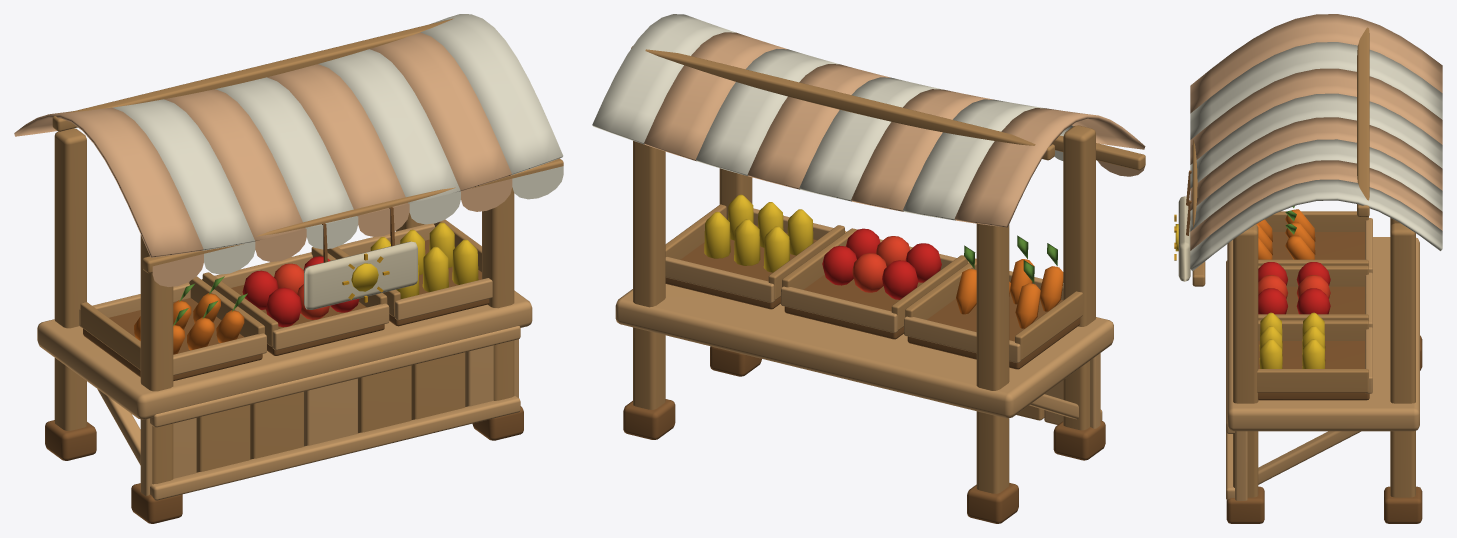
The model's file is market-stall.glb.
The picture shows the model from 3 angles, left to right: view 1: azimuth 30°, elevation 25°; view 2: azimuth 150°, elevation 25°; view 3: azimuth 270°, elevation 25°; orthographic projection. The views are drawn at different scales.
Parts seen in each view (by area): view 1: market-stall_awning, market-stall_frame, market-stall_produce, market-stall_sign; view 2: market-stall_frame, market-stall_awning, market-stall_produce; view 3: market-stall_awning, market-stall_frame, market-stall_produce, market-stall_sign.
Boxes of the visible parts, x1=… form: market-stall_awning: x1=14, y1=14, x2=563, y2=286; market-stall_frame: x1=37, y1=18, x2=563, y2=523; market-stall_produce: x1=79, y1=219, x2=492, y2=380; market-stall_sign: x1=304, y1=207, x2=417, y2=309; market-stall_frame: x1=615, y1=46, x2=1145, y2=523; market-stall_awning: x1=592, y1=14, x2=1145, y2=227; market-stall_produce: x1=665, y1=194, x2=1083, y2=369; market-stall_awning: x1=1190, y1=14, x2=1442, y2=271; market-stall_frame: x1=1192, y1=27, x2=1422, y2=523; market-stall_produce: x1=1256, y1=206, x2=1372, y2=400; market-stall_sign: x1=1174, y1=170, x2=1191, y2=281.
Size of the model in its own units: 3.1 by 2.62 by 1.89.
